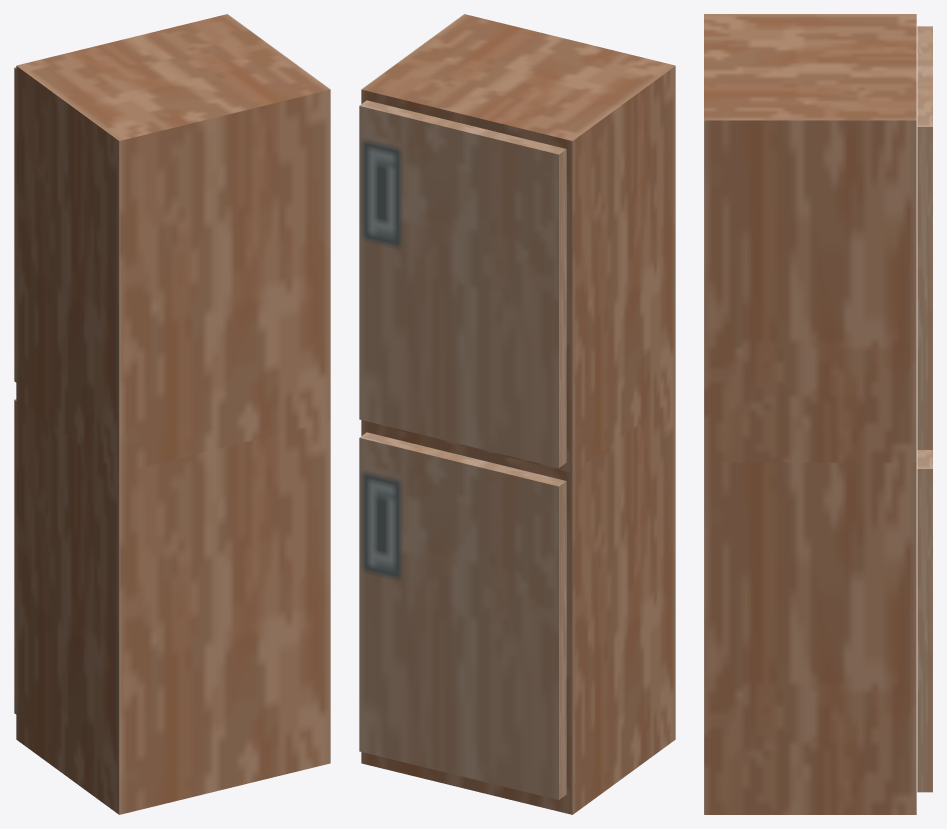
Rendered from Cabinet.fbx.
The picture shows the model from 3 angles, left to right: view 1: azimuth 30°, elevation 25°; view 2: azimuth 150°, elevation 25°; view 3: azimuth 270°, elevation 25°; orthographic projection. The views are drawn at different scales.
Parts seen in each view (by area): view 1: Cabinet, Cabinet door.001, Cabinet door; view 2: Cabinet, Cabinet door, Cabinet door.001; view 3: Cabinet, Cabinet door.001, Cabinet door.
Boxes of the visible parts, <box> form: Cabinet: <box>16,14,330,814</box>; Cabinet door.001: <box>14,67,16,382</box>; Cabinet door: <box>14,399,16,714</box>; Cabinet: <box>361,14,675,814</box>; Cabinet door: <box>359,432,566,799</box>; Cabinet door.001: <box>359,100,566,467</box>; Cabinet: <box>704,14,916,814</box>; Cabinet door.001: <box>917,26,932,449</box>; Cabinet door: <box>917,450,932,792</box>.
Size of the model in its own units: 100 by 304 by 90.91.
Materials: 1 (1 with a texture image).
